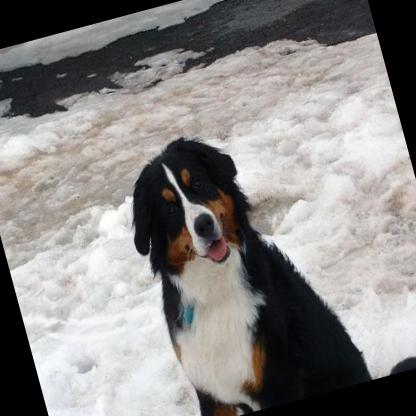Bernese_mountain_dog: (109, 86, 416, 416)
